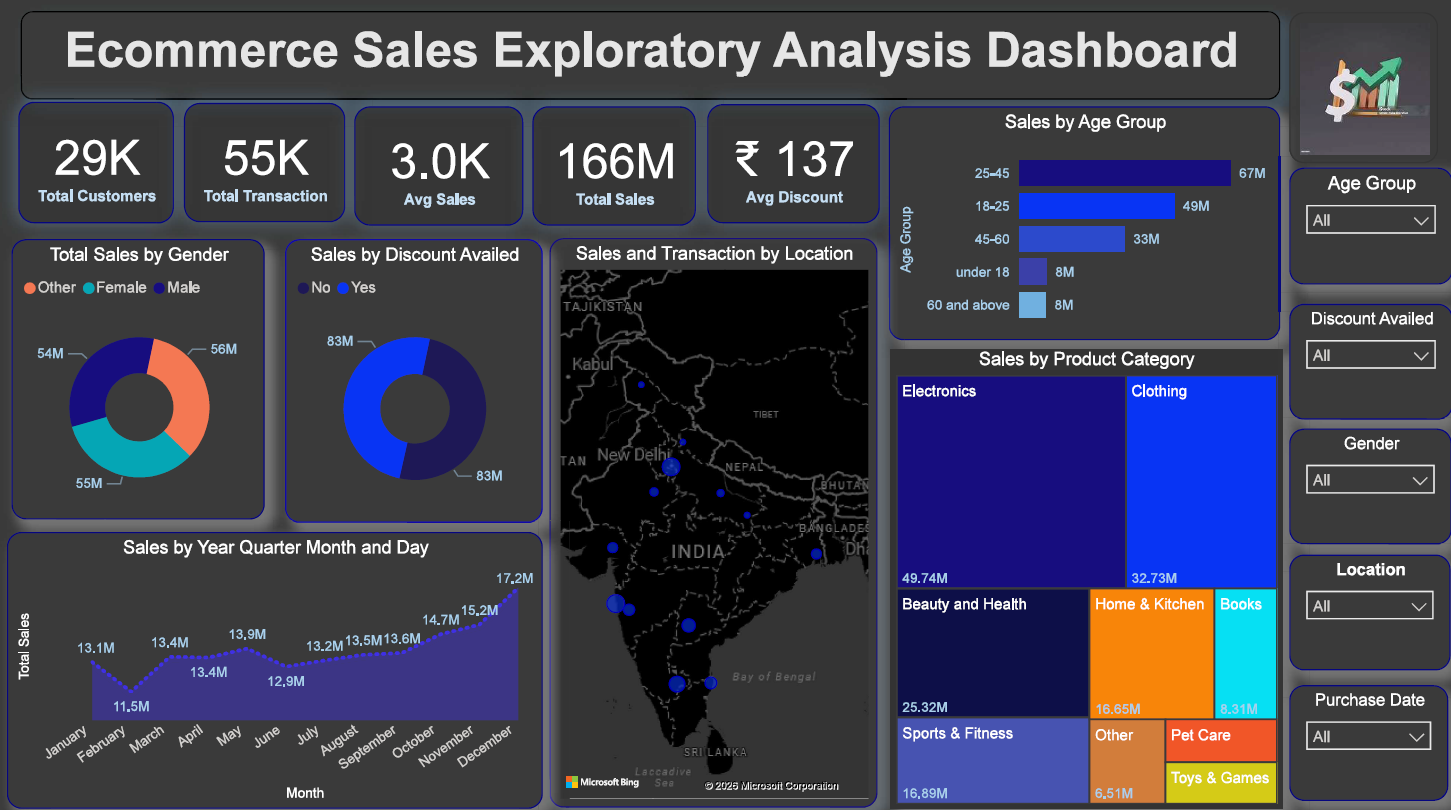

Layout of this report page (visuals, bound fields, positions):
{"tool":"powerbi","page":{"name":"Page 1","canvas":[1280,720],"ordinal":0},"visuals":[{"type":"textbox","box":[18.1,9.7,1109.9,78.4],"z":0},{"type":"card","fields":{"Values":["Total Transaction.Total Customer"]},"box":[15.7,90.5,137.5,106.2],"z":1000},{"type":"card","fields":{"Values":["Total Transaction.Total Transaction"]},"box":[161.7,91.5,142.4,105],"z":2000},{"type":"card","fields":{"Values":["Total Transaction.Avg Sales"]},"box":[312.5,94.1,148.4,105],"z":3000},{"type":"card","fields":{"Values":["Total Transaction.Total Sales"]},"box":[469.3,94.1,143.6,105],"z":4000},{"type":"card","fields":{"Values":["Total Transaction.Avg Discount"]},"box":[622.5,91.7,152,105],"z":5000},{"type":"barChart","title":"Sales by Age Group","fields":{"Y":["Total Transaction.Total Sales"],"Category":["Ecommerce.Age Group"]},"box":[783,94.1,345,206.3],"z":7000},{"type":"pieChart","fields":{"Y":["Total Transaction.Total Sales"],"Category":["Ecommerce.Gender"]},"box":[9.7,211.1,223.2,247.3],"z":8000},{"type":"donutChart","title":"Sales by Discount Availed","fields":{"Y":["Total Transaction.Total Sales"],"Category":["Ecommerce.Discount Availed"]},"box":[250.9,211.1,226.8,249.7],"z":9000},{"type":"map","title":"Sales and Transaction by Location","fields":{"Category":["Ecommerce.Location"],"Size":["Total Transaction.Total Sales"]},"box":[483.8,209.9,289.5,501.9],"z":10000},{"type":"areaChart","title":"Sales by Year Quarter Month and Day","fields":{"Category":["Ecommerce.Purchase Date.Variation.Date Hierarchy.Year","Ecommerce.Purchase Date.Variation.Date Hierarchy.Quarter","Ecommerce.Purchase Date.Variation.Date Hierarchy.Month","Ecommerce.Purchase Date.Variation.Date Hierarchy.Day"],"Y":["Total Transaction.Total Sales"]},"box":[6,469.3,471.7,243.7],"z":11000},{"type":"treemap","title":"Sales by Product Category","fields":{"Values":["Total Transaction.Total Sales"],"Group":["Ecommerce.Product Category"]},"box":[785.4,307.6,345,405.4],"z":12000},{"type":"image","box":[1136.5,10.9,130.3,132.7],"z":13001},{"type":"slicer","title":"Age Group","fields":{"Values":["Ecommerce.Age Group"]},"box":[1136.5,148.4,143.6,102.5],"z":13002},{"type":"slicer","title":"Discount Availed","fields":{"Values":["Ecommerce.Discount Availed"]},"box":[1136.5,267.8,143.6,102.5],"z":13003},{"type":"slicer","title":"Gender","fields":{"Values":["Ecommerce.Gender"]},"box":[1136.5,377.6,142.4,102.5],"z":13004},{"type":"slicer","title":"Location","fields":{"Values":["Ecommerce.Location"]},"box":[1136.5,488.6,141.2,102.5],"z":13005},{"type":"slicer","title":"Purchase Date","fields":{"Values":["Ecommerce.Purchase Date"]},"box":[1136.5,604.4,139.9,101.3],"z":13006}]}

Visuals, with their boxes in screenshot pixels (x1, y1, x2, y2), scaled from the page's 1280x720 canvas onto the 1451x810 screenshot:
textbox: (x1=21, y1=11, x2=1279, y2=99)
card - Total Transaction.Total Customer: (x1=18, y1=102, x2=174, y2=221)
card - Total Transaction.Total Transaction: (x1=183, y1=103, x2=345, y2=221)
card - Total Transaction.Avg Sales: (x1=354, y1=106, x2=522, y2=224)
card - Total Transaction.Total Sales: (x1=532, y1=106, x2=695, y2=224)
card - Total Transaction.Avg Discount: (x1=706, y1=103, x2=878, y2=221)
"Sales by Age Group" barChart: (x1=888, y1=106, x2=1279, y2=338)
pieChart - Total Transaction.Total Sales x Ecommerce.Gender: (x1=11, y1=237, x2=264, y2=516)
"Sales by Discount Availed" donutChart: (x1=284, y1=237, x2=542, y2=518)
"Sales and Transaction by Location" map: (x1=548, y1=236, x2=877, y2=801)
"Sales by Year Quarter Month and Day" areaChart: (x1=7, y1=528, x2=542, y2=802)
"Sales by Product Category" treemap: (x1=890, y1=346, x2=1281, y2=802)
image: (x1=1288, y1=12, x2=1436, y2=162)
"Age Group" slicer: (x1=1288, y1=167, x2=1450, y2=282)
"Discount Availed" slicer: (x1=1288, y1=301, x2=1450, y2=417)
"Gender" slicer: (x1=1288, y1=425, x2=1450, y2=540)
"Location" slicer: (x1=1288, y1=550, x2=1448, y2=665)
"Purchase Date" slicer: (x1=1288, y1=680, x2=1447, y2=794)
